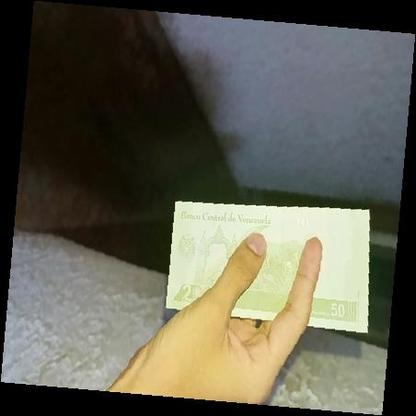fifty-back-vef: (165, 200, 369, 333)
